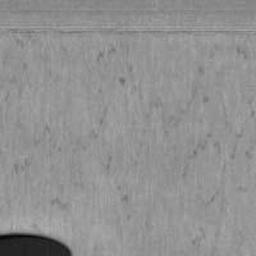Punching: (0, 233, 73, 256)
